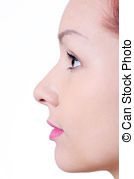face: (25, 1, 119, 175)
